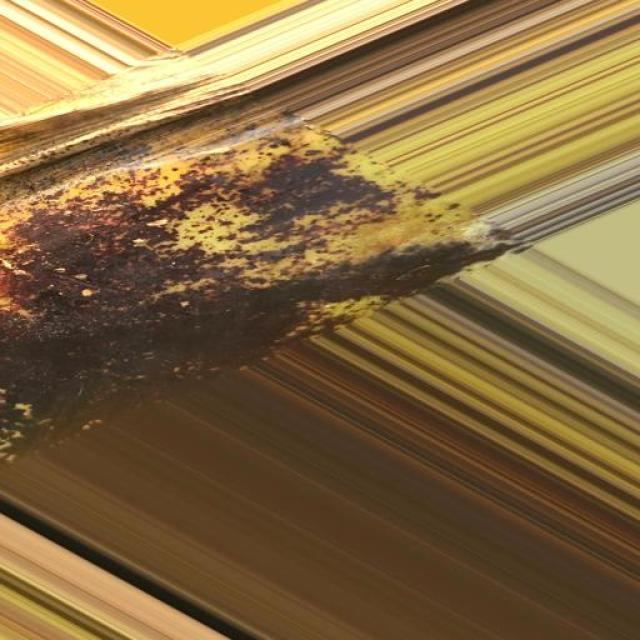Anthracnose: (0, 71, 640, 488)
